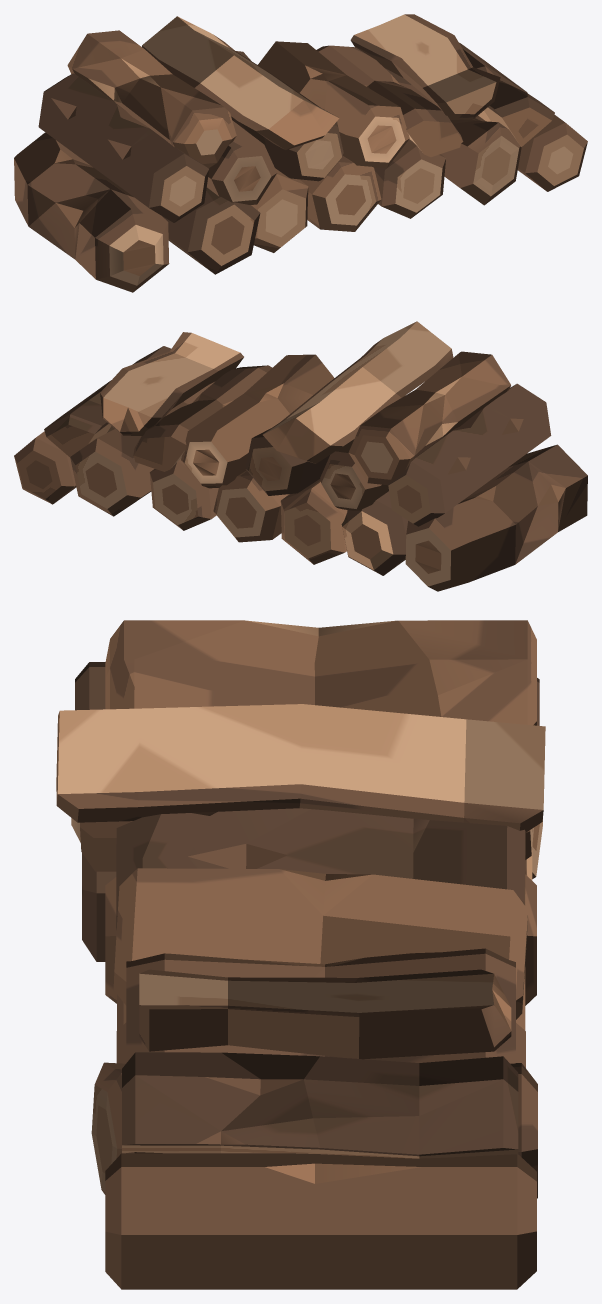
The model's file is pass_woodpile_b.gltf.
3 views of the same model, one above another, from view 1: azimuth 30°, elevation 25°; view 2: azimuth 150°, elevation 25°; view 3: azimuth 270°, elevation 25° (orthographic). The views are drawn at different scales.
Parts seen in each view (by area): view 1: pass_woodpile_b; view 2: pass_woodpile_b; view 3: pass_woodpile_b.
Part boxes in pixels (x1,y1,x2,y2): pass_woodpile_b: [14, 14, 587, 292]; pass_woodpile_b: [14, 321, 587, 591]; pass_woodpile_b: [56, 620, 545, 1289].
Size of the model in its own units: 1.53 by 0.4963 by 0.6823.
1 material, 1 textured.
